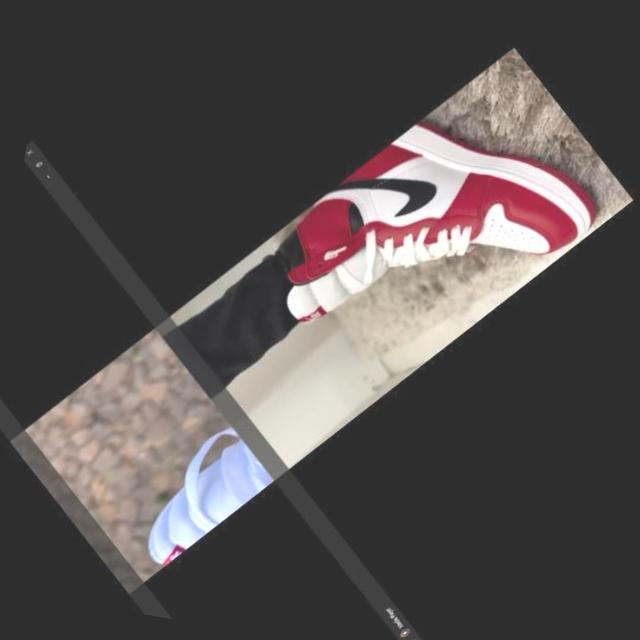nike_original_jordan: (221, 31, 625, 442)
